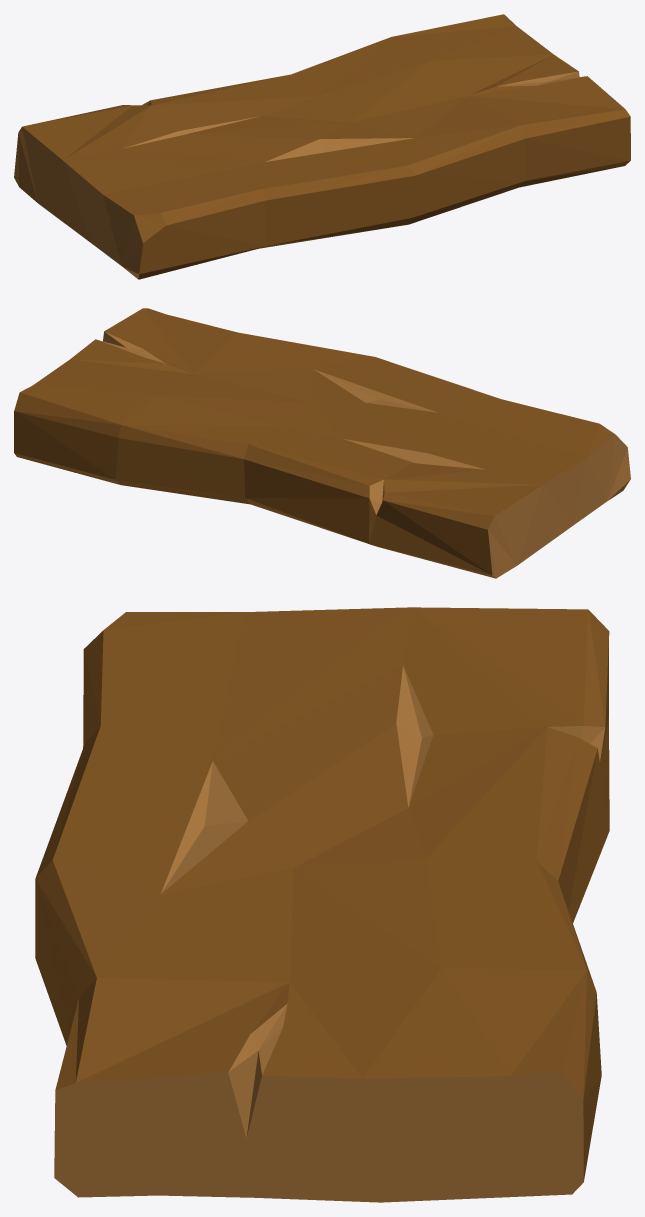
Rendered from PlankA.fbx.
3 views of the same model, one above another, from view 1: azimuth 30°, elevation 25°; view 2: azimuth 150°, elevation 25°; view 3: azimuth 270°, elevation 25° (orthographic). The views are drawn at different scales.
Parts seen in each view (by area): view 1: PlankA; view 2: PlankA; view 3: PlankA.
Part boxes in pixels (bbox=[...]): PlankA: bbox=[14, 14, 630, 279]; PlankA: bbox=[14, 308, 630, 578]; PlankA: bbox=[35, 607, 609, 1202].
Size of the model in its own units: 99.19 by 13 by 50.97.
